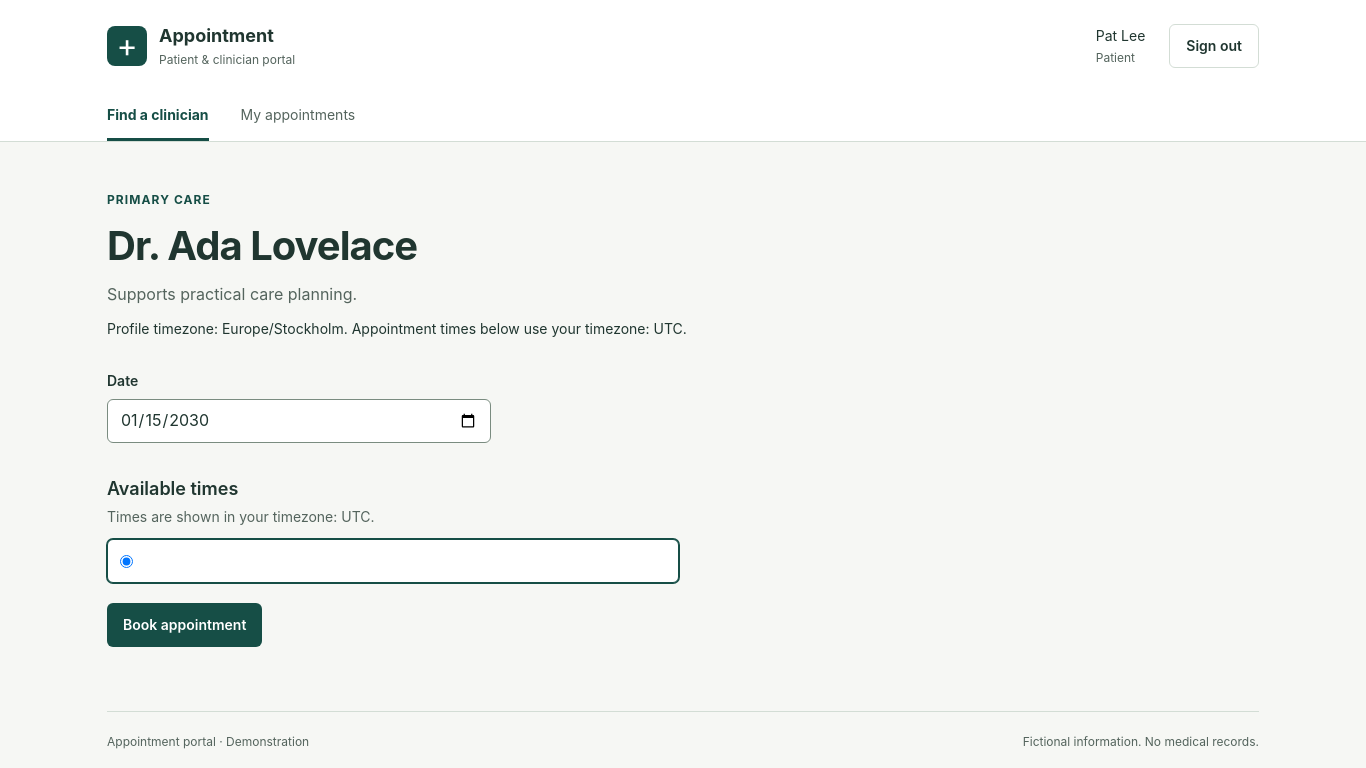
patient appointment journeys › reconciles a direct-first-visit network failure before showing confirmation
Step 1. Click the button "Book appointment" → (185, 625), box top-left (107, 603), bottom-right (262, 647)
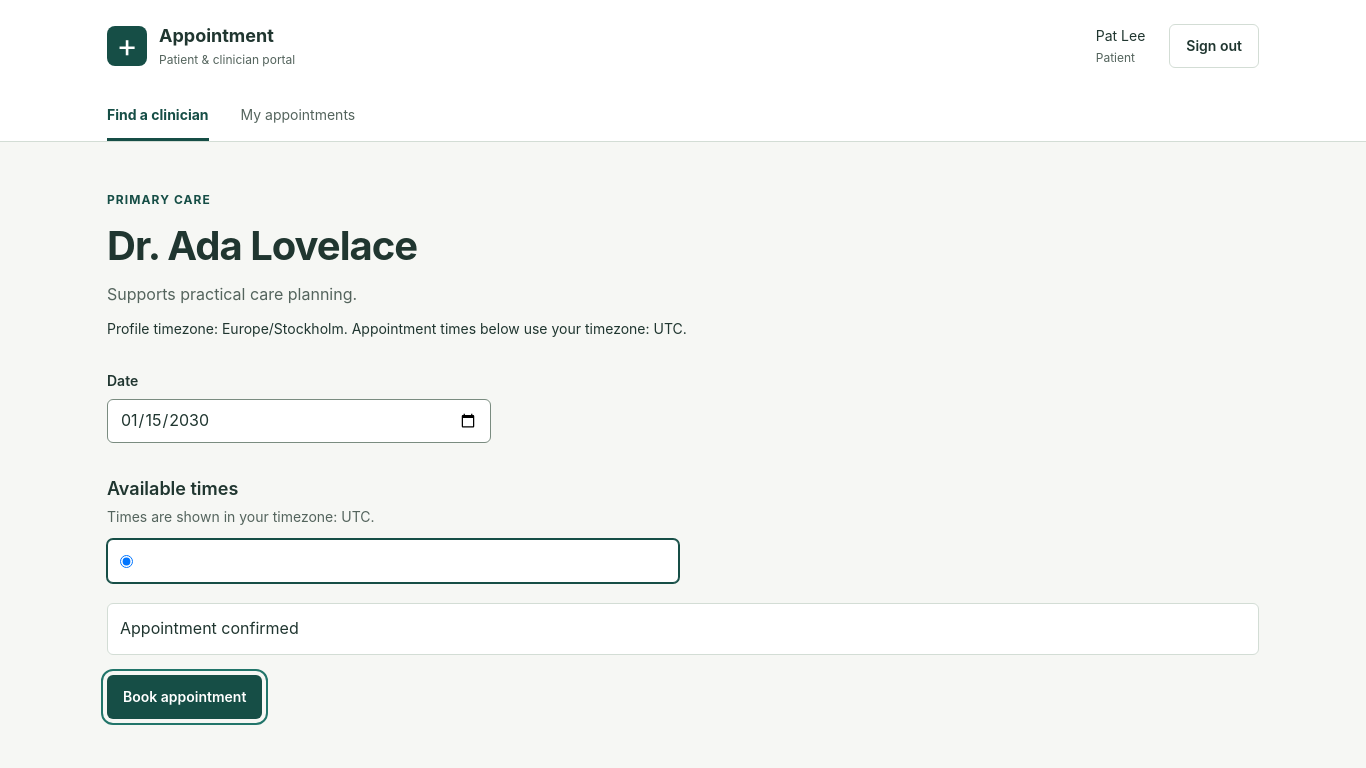
Expected: the text "Appointment confirmed" is shown, top-left (107, 603), bottom-right (1259, 655)
